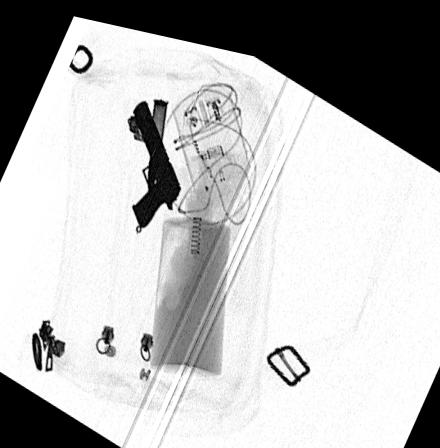Bullet: (148, 94, 166, 186)
Gun: (131, 93, 180, 223)
